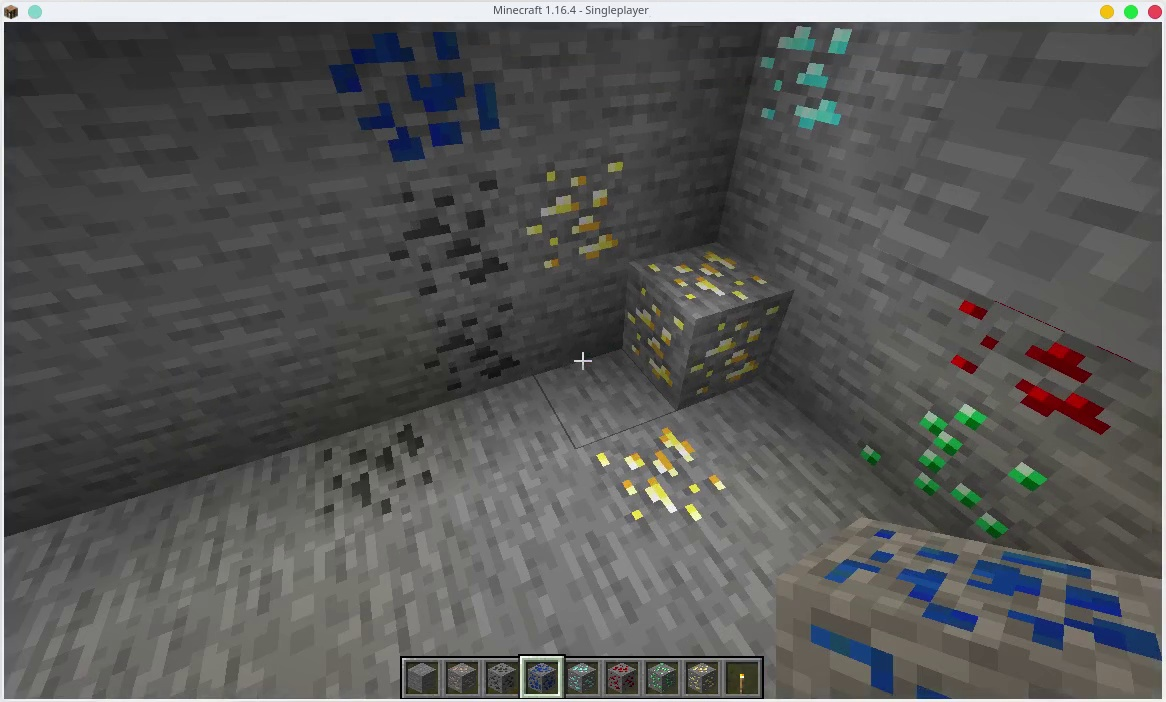gold: (624, 247, 787, 399), (589, 427, 737, 527), (524, 160, 617, 270), (687, 662, 718, 698)
